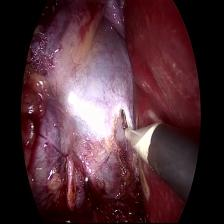Hook: (118, 103, 164, 184)
